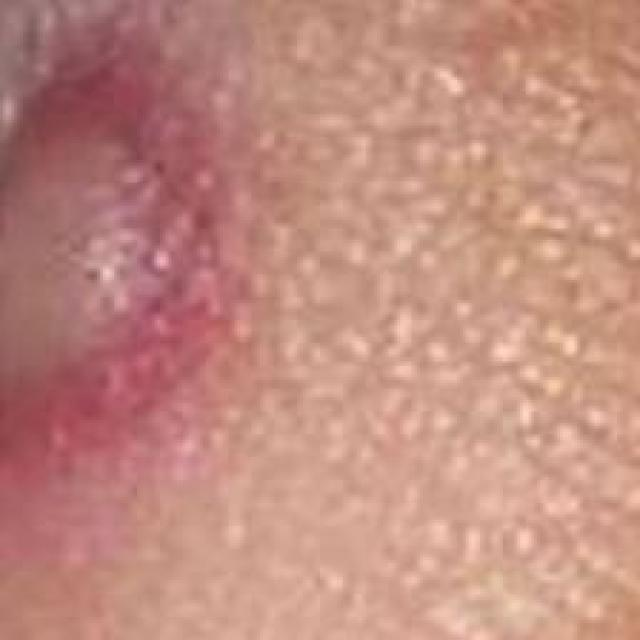monkeypox: (0, 0, 292, 640)
